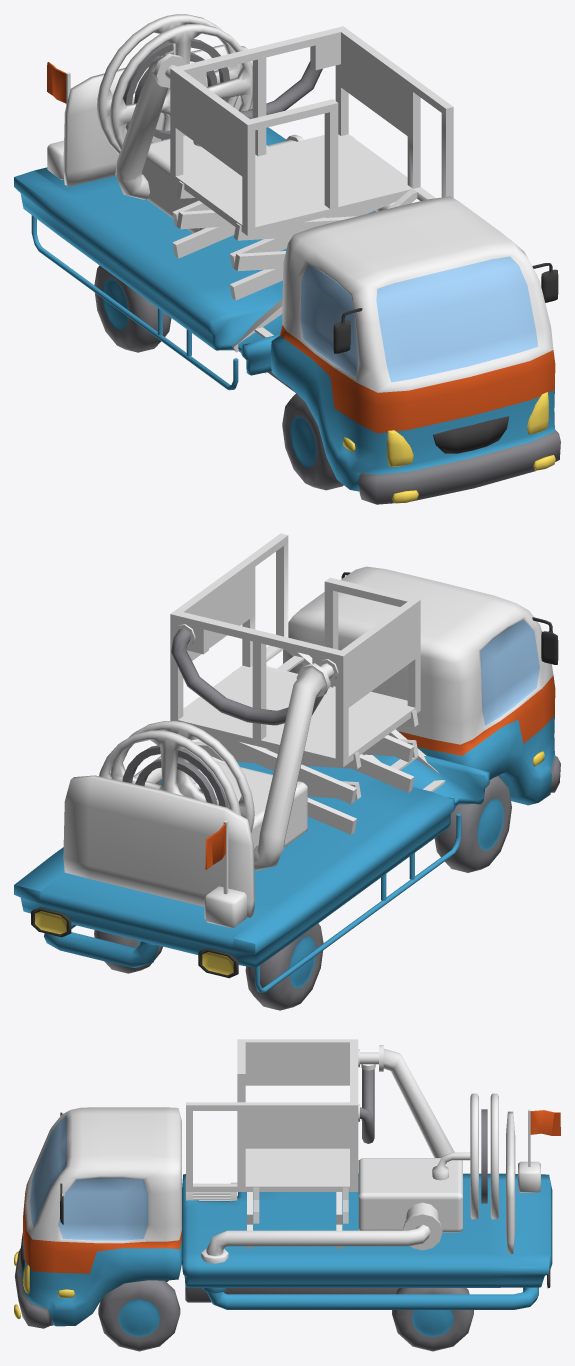
File: truck.glb
The picture shows the model from 3 angles, top to bottom: view 1: azimuth 30°, elevation 25°; view 2: azimuth 150°, elevation 25°; view 3: azimuth 270°, elevation 25°; orthographic projection. The views are drawn at different scales.
Parts seen in each view (by area): view 1: Car_Lopoly; view 2: Car_Lopoly; view 3: Car_Lopoly.
Part boxes in pixels (left/top/right/bottom): Car_Lopoly: left=14, top=14, right=560, bottom=504; Car_Lopoly: left=14, top=533, right=560, bottom=1010; Car_Lopoly: left=14, top=1039, right=560, bottom=1351.
Bounding box in the file's own units: 0.5183 × 0.6373 × 1.28.
